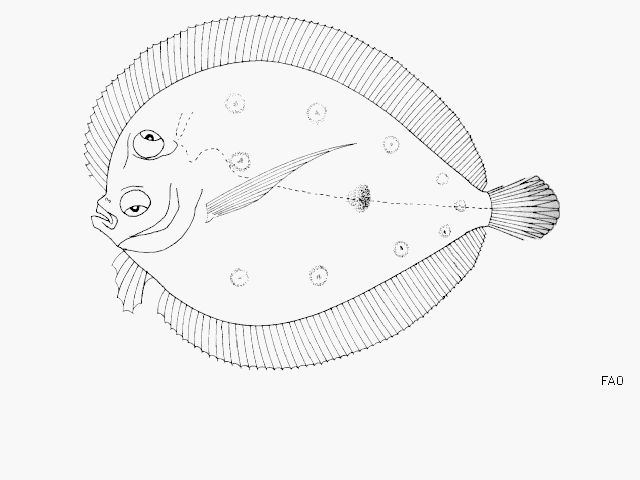fish: (87, 15, 561, 369)
